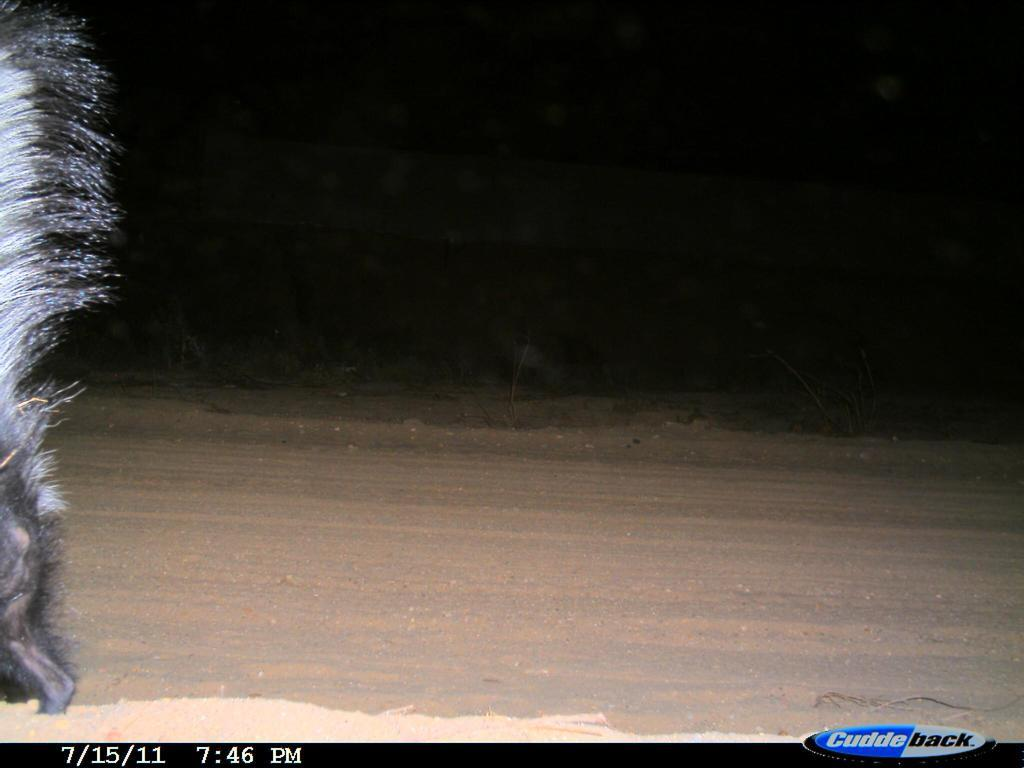skunk: (2, 2, 118, 720)
